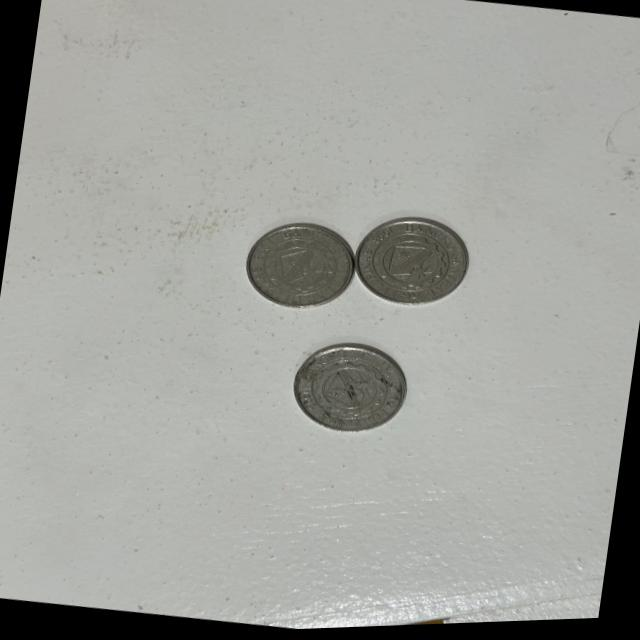1_Old_Back: (366, 225, 458, 304), (305, 353, 396, 431), (260, 236, 343, 307)
